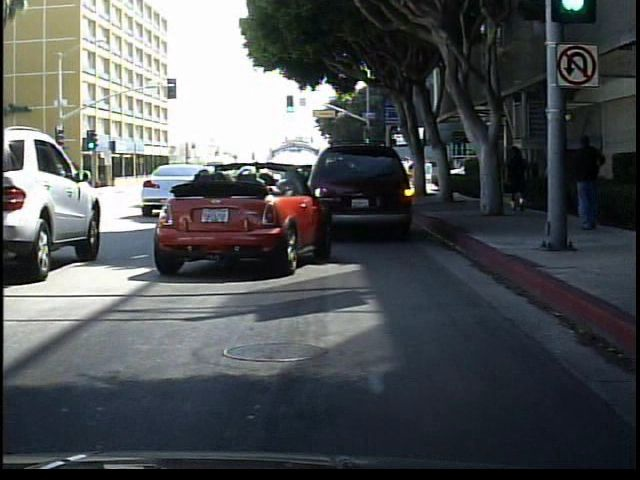person: (565, 129, 613, 236), (505, 141, 533, 214)
